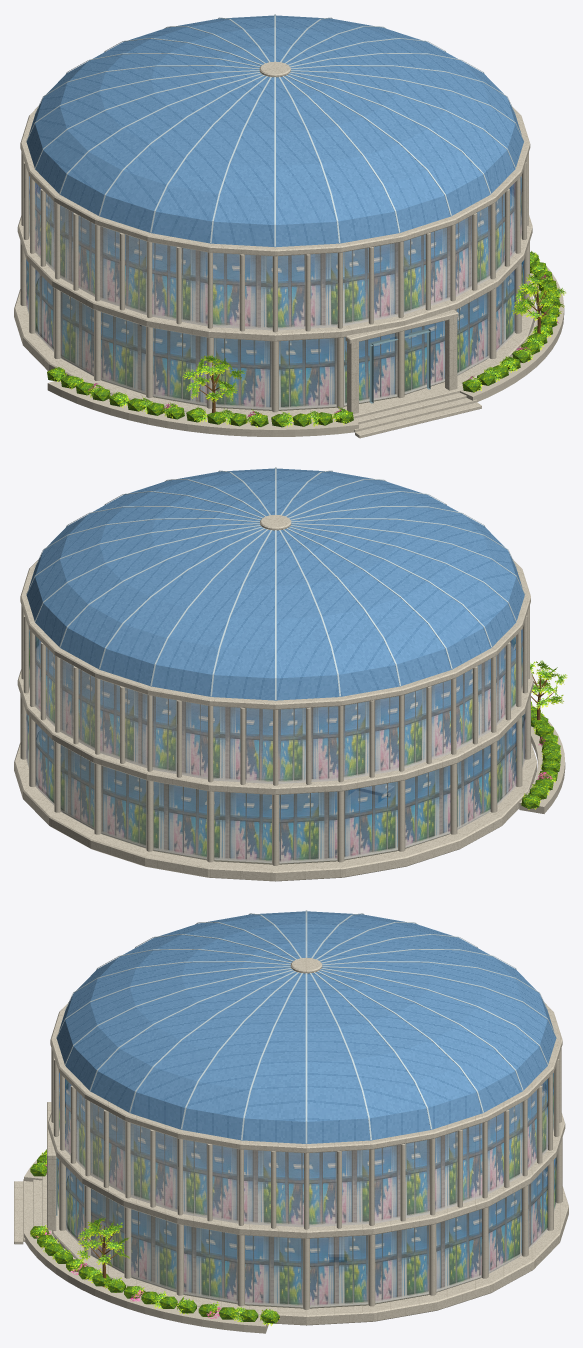
The model's file is B08_round_hall_v2.glb.
The picture shows the model from 3 angles, top to bottom: view 1: azimuth 30°, elevation 25°; view 2: azimuth 150°, elevation 25°; view 3: azimuth 270°, elevation 25°; orthographic projection.
Visible parts, largest first — view 1: GAME_roof, GAME_V2_Pixel_limestone, GAME_V2_Glass_reflection, GAME_V2_Pixel_paving, GAME_屋檐浅蓝金属, GAME_V2_Leaf_cutout.001, GAME_V2_Dense_hedge, GAME_蓝灰窗框; view 2: GAME_roof, GAME_V2_Pixel_limestone, GAME_V2_Glass_reflection, GAME_V2_Pixel_paving, GAME_屋檐浅蓝金属, GAME_V2_Dense_hedge, GAME_V2_Leaf_cutout.001; view 3: GAME_roof, GAME_V2_Pixel_limestone, GAME_V2_Glass_reflection, GAME_V2_Pixel_paving, GAME_屋檐浅蓝金属, GAME_V2_Dense_hedge, GAME_V2_Leaf_cutout.001.
Part boxes in pixels (<box>): GAME_roof: <box>26,15,523,247</box>; GAME_V2_Pixel_limestone: <box>14,61,564,438</box>; GAME_V2_Glass_reflection: <box>26,176,524,409</box>; GAME_V2_Pixel_paving: <box>36,276,513,410</box>; GAME_屋檐浅蓝金属: <box>26,14,524,246</box>; GAME_V2_Leaf_cutout.001: <box>49,251,565,427</box>; GAME_V2_Dense_hedge: <box>47,253,560,427</box>; GAME_蓝灰窗框: <box>139,324,430,403</box>; GAME_roof: <box>26,468,524,700</box>; GAME_V2_Pixel_limestone: <box>14,515,565,881</box>; GAME_V2_Glass_reflection: <box>26,629,525,863</box>; GAME_V2_Pixel_paving: <box>36,729,514,864</box>; GAME_屋檐浅蓝金属: <box>26,467,525,699</box>; GAME_V2_Dense_hedge: <box>521,702,561,808</box>; GAME_V2_Leaf_cutout.001: <box>521,660,567,809</box>; GAME_roof: <box>56,911,556,1143</box>; GAME_V2_Pixel_limestone: <box>14,957,568,1333</box>; GAME_V2_Glass_reflection: <box>57,1072,556,1307</box>; GAME_V2_Pixel_paving: <box>66,1173,546,1308</box>; GAME_屋檐浅蓝金属: <box>56,910,556,1143</box>; GAME_V2_Dense_hedge: <box>30,1149,279,1323</box>; GAME_V2_Leaf_cutout.001: <box>30,1150,279,1325</box>.
Size of the model in its own units: 18.18 by 8.76 by 17.55.
Materials: 10 (8 with a texture image).
